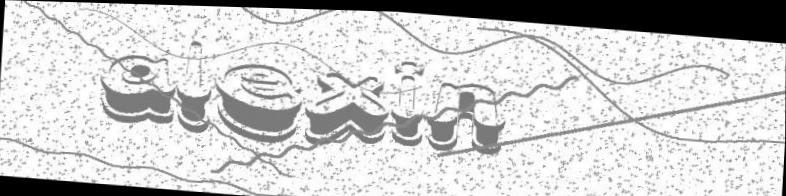a: (98, 47, 179, 126)
e: (209, 52, 309, 153)
i: (390, 51, 429, 151)
l: (173, 30, 219, 138)
n: (421, 68, 512, 162)
x: (304, 61, 394, 147)
